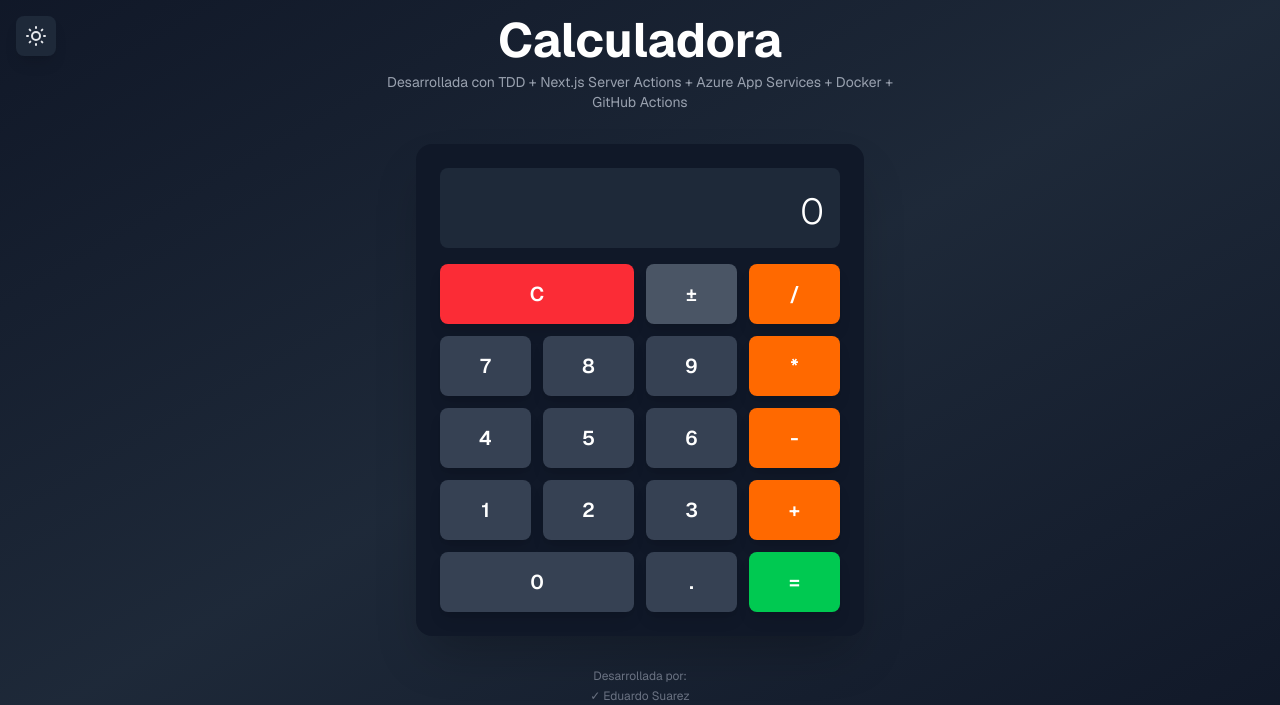
Calculadora - Pruebas de Integración › Operaciones Básicas › debe realizar una resta correctamente
The width and height of the screenshot is (1280, 705).
Expected: the heading "Calculadora" is shown, [498, 9, 782, 71]
Step 1. Click the button "1" → (486, 510), box [440, 480, 531, 540]
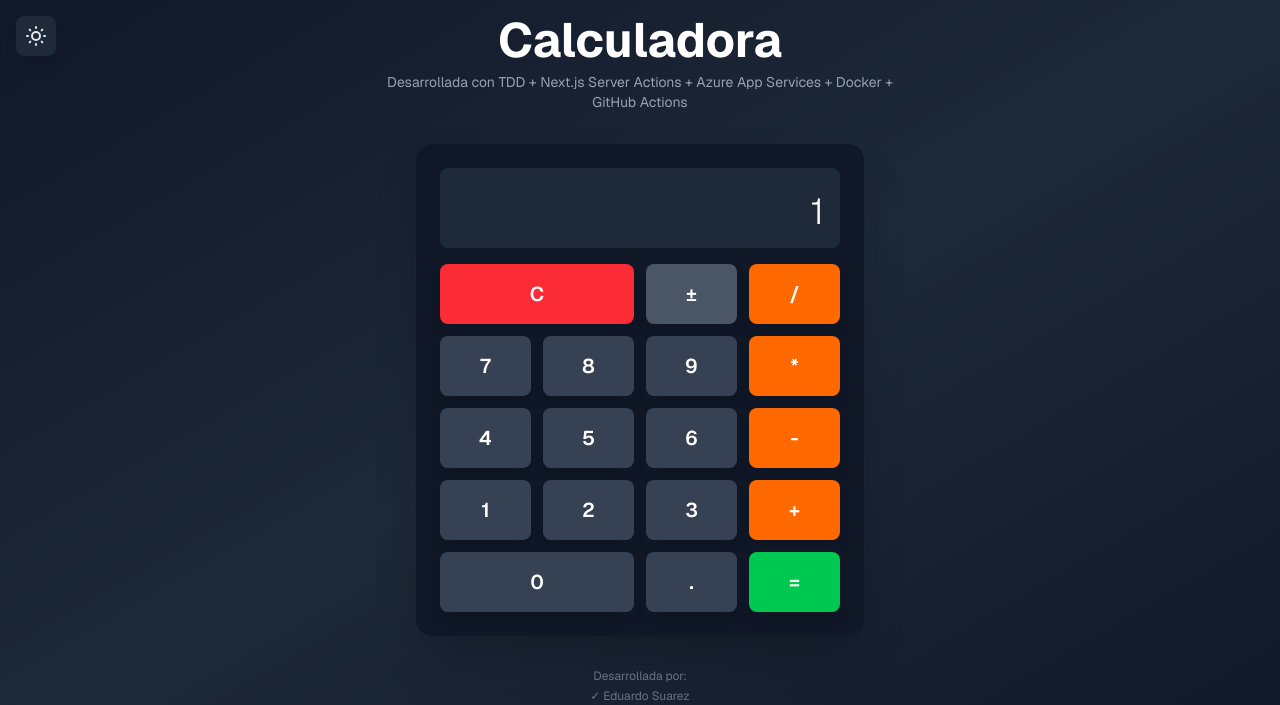
Step 2. Click the button "0" → (537, 582), box [440, 552, 634, 612]
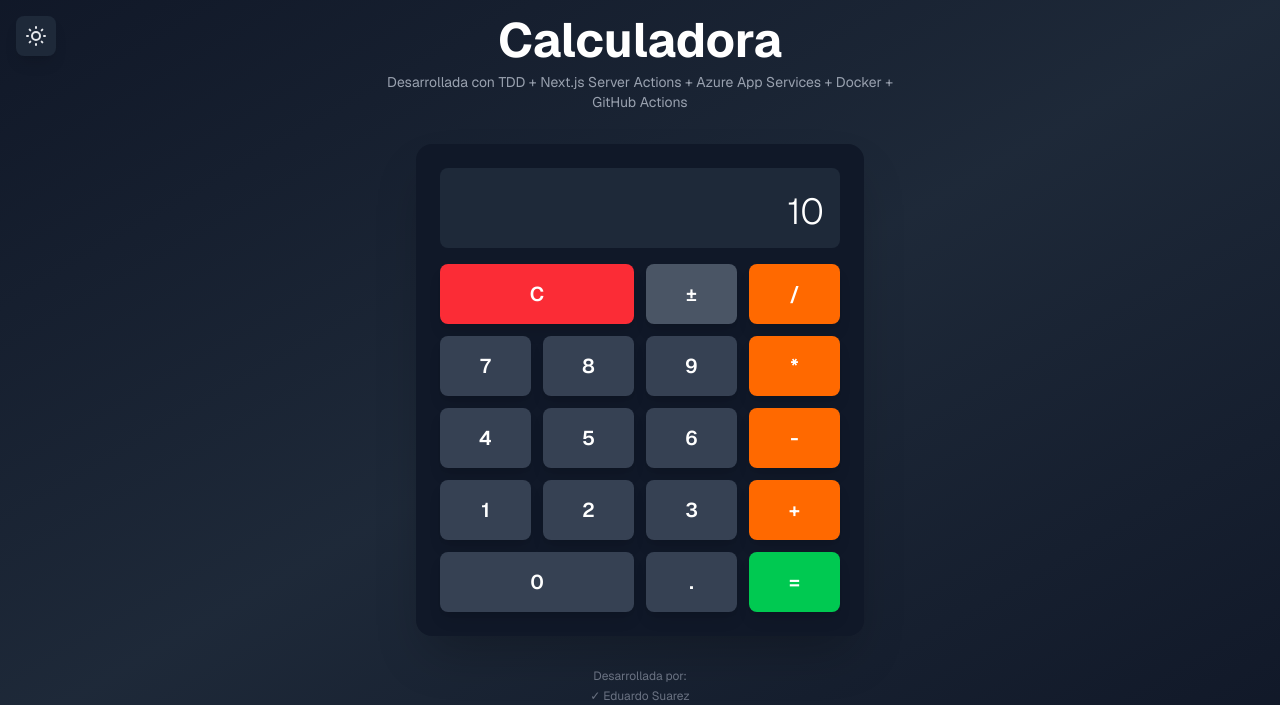
Result: the text "10" is shown at [787, 188, 824, 235]
Step 3. Click the button "-" → (795, 438), box [749, 408, 840, 468]
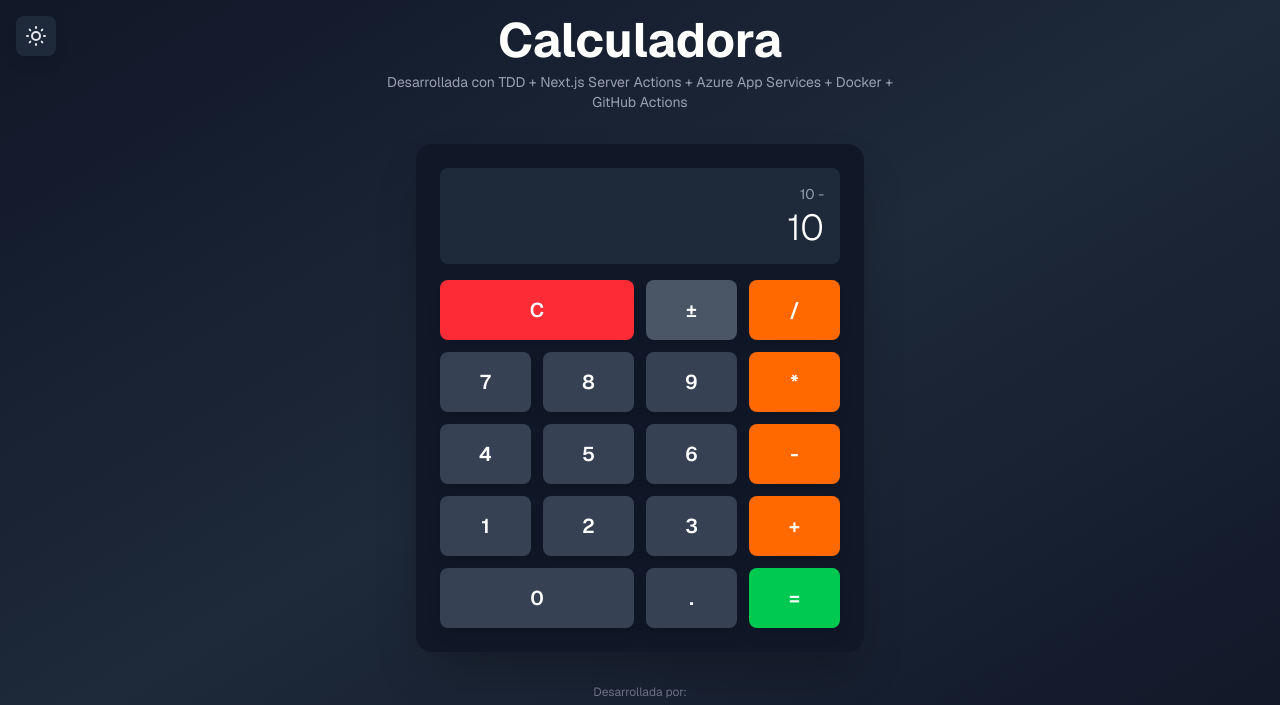
Step 4. Click the button "4" → (486, 454), box [440, 424, 531, 484]
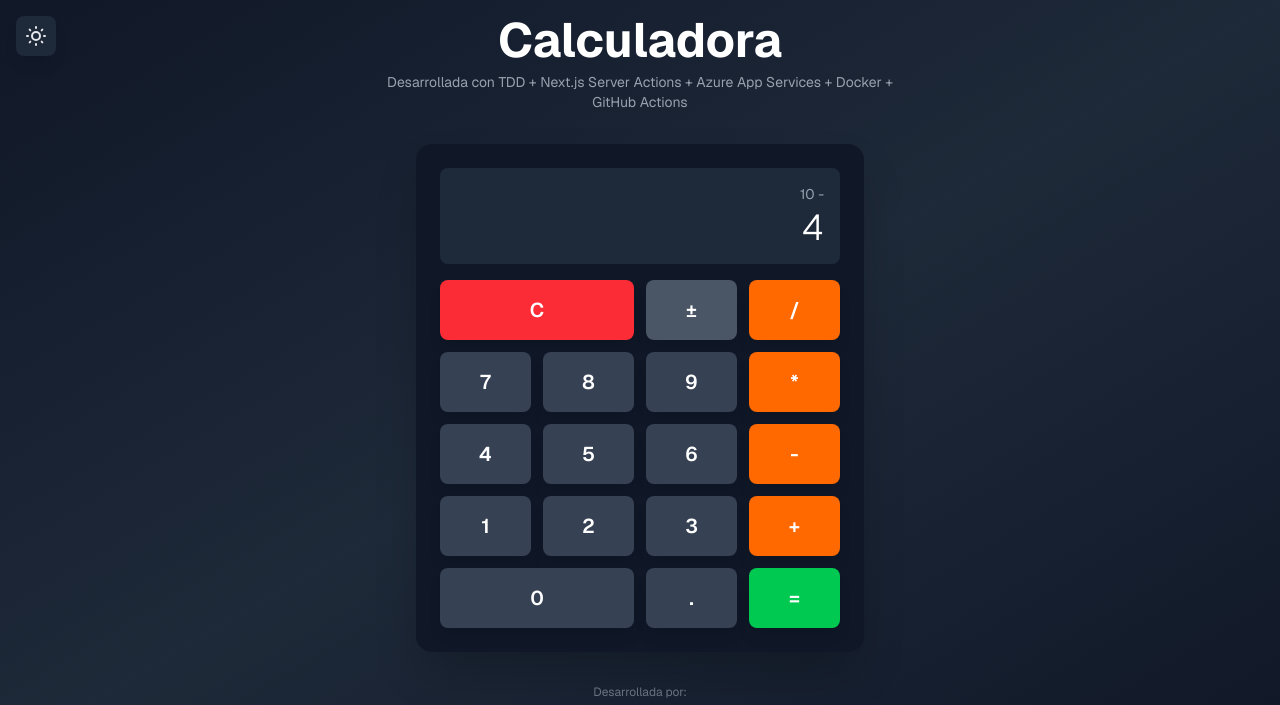
Result: the text "4" is shown at [802, 204, 824, 251]
Step 5. Click the button "=" → (795, 598), box [749, 568, 840, 628]
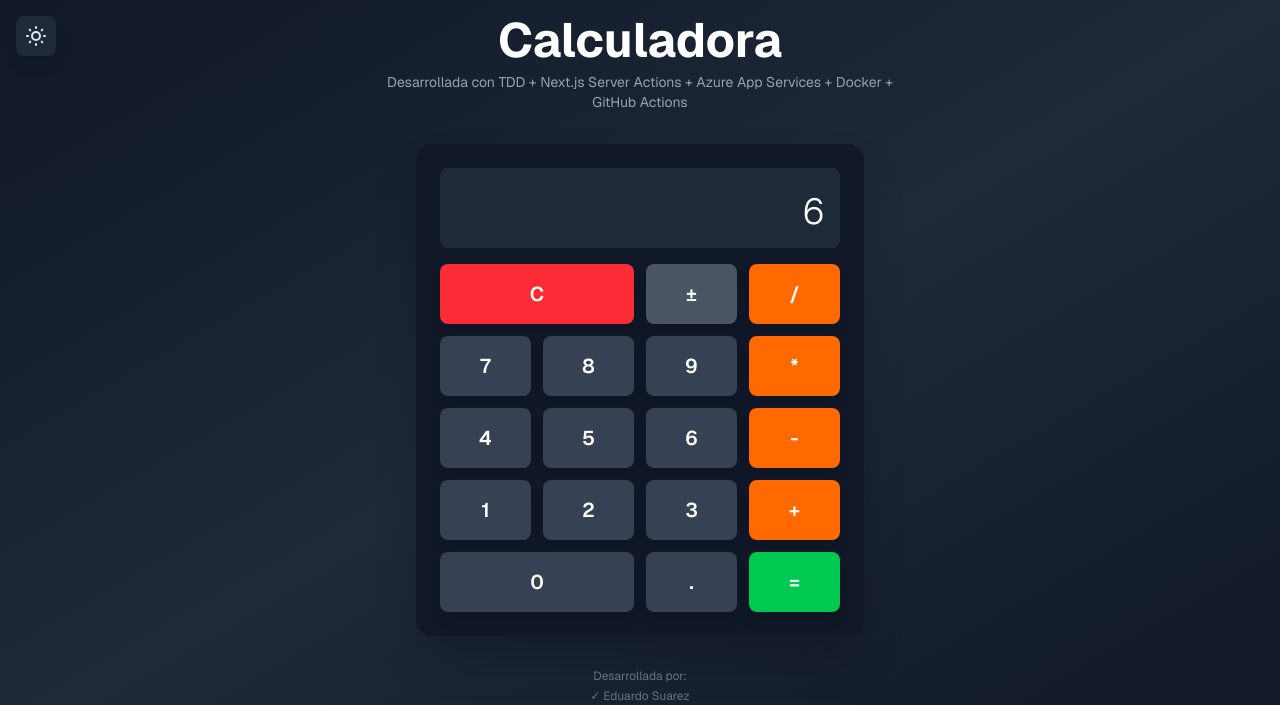
Result: the text "6" is shown at [803, 188, 824, 235]
